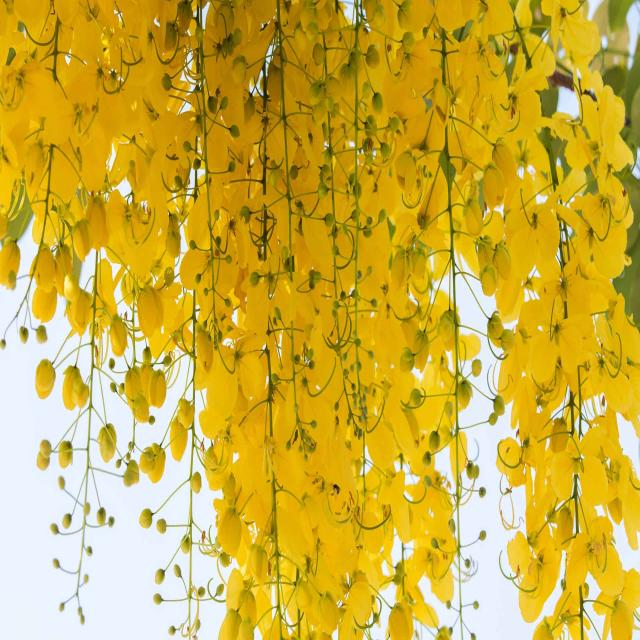Amaltas: (208, 2, 502, 640), (477, 0, 640, 640), (36, 0, 250, 486), (388, 5, 518, 318)
